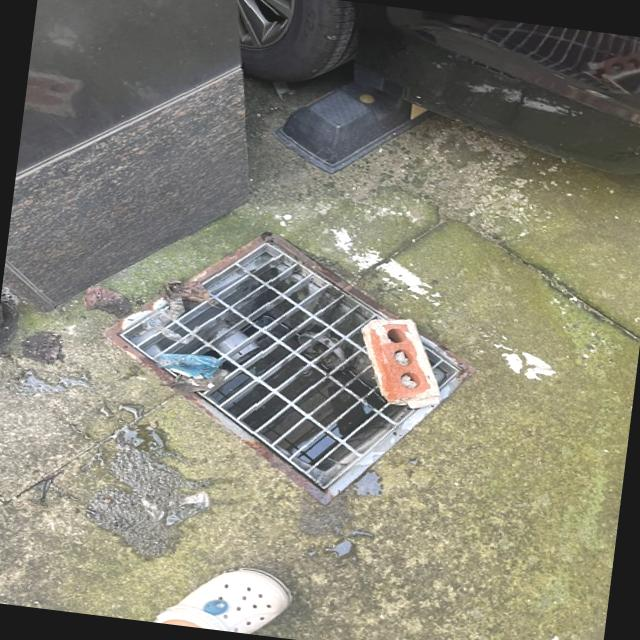drain_area: (119, 241, 412, 491), (422, 342, 460, 390)
drain_full: (120, 243, 460, 490)
